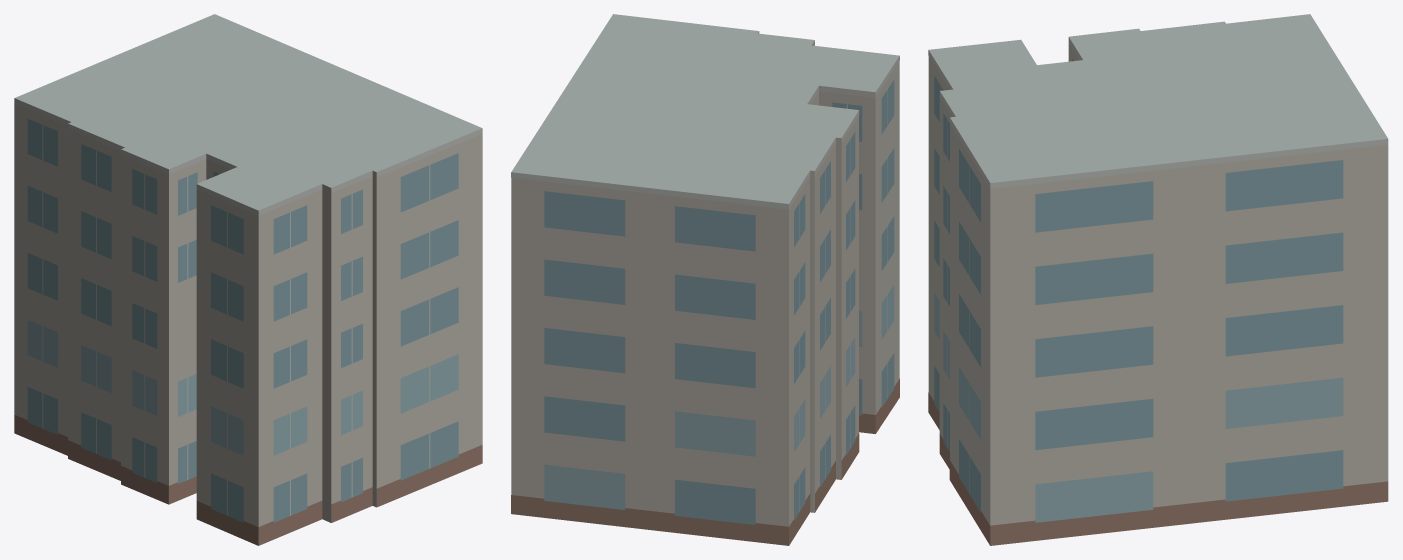
The model's file is survey-upis-32621479.glb.
3 renders of one model, left to right at view 1: azimuth 30°, elevation 25°; view 2: azimuth 150°, elevation 25°; view 3: azimuth 270°, elevation 25°, orthographic. The views are drawn at different scales.
Parts seen in each view (by area): view 1: survey-upis-32621479.tmp; view 2: survey-upis-32621479.tmp; view 3: survey-upis-32621479.tmp.
Part boxes in pixels (<box>): survey-upis-32621479.tmp: <box>14,14,482,545</box>; survey-upis-32621479.tmp: <box>511,14,899,545</box>; survey-upis-32621479.tmp: <box>928,14,1388,545</box>.
Bounding box in the file's own units: 15.26 × 15.25 × 17.53.
